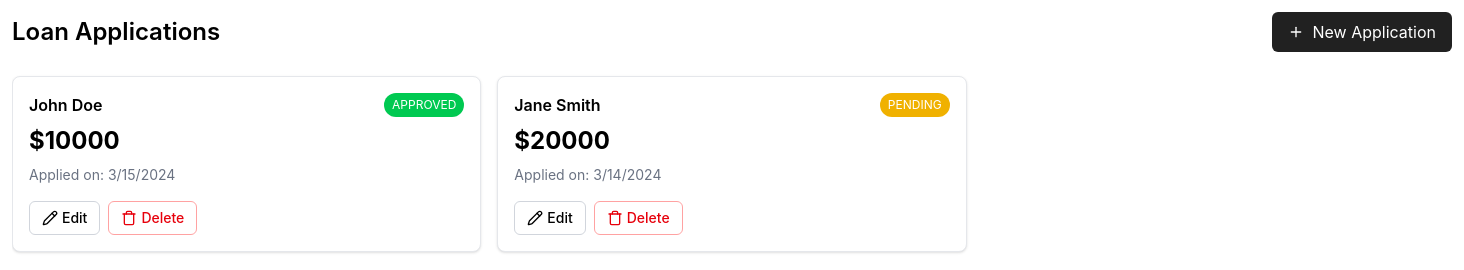
Test: LoanList Component › deletes loan application after confirmation
The width and height of the screenshot is (1464, 270).
Wait for loans to load and click delete
Click the button "Delete" below "3/15/2024" at (153, 218), box x1=108 y1=201 x2=197 y2=235
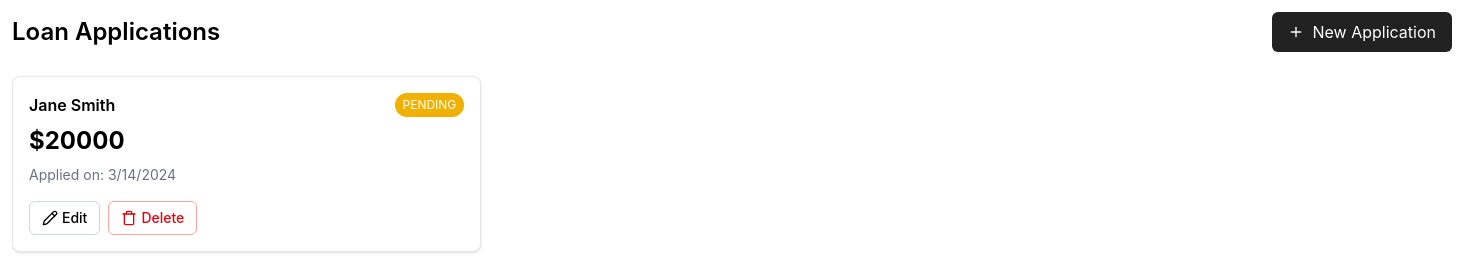
Now the heading "John Doe" is gone
